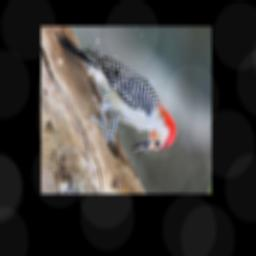Woodpecker: (56, 31, 176, 153)
